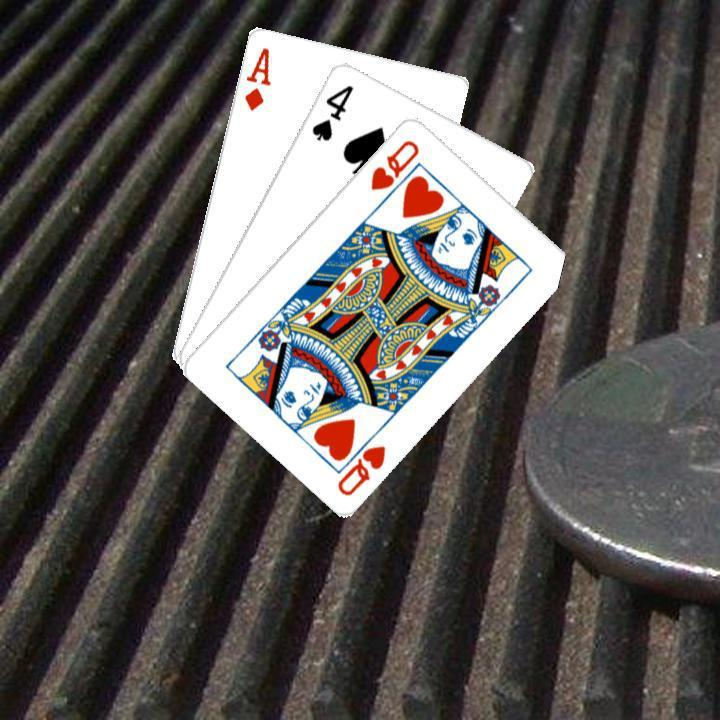4: (307, 80, 355, 143)
A: (239, 43, 273, 112)
Q: (331, 424, 388, 498), (365, 135, 421, 192)
